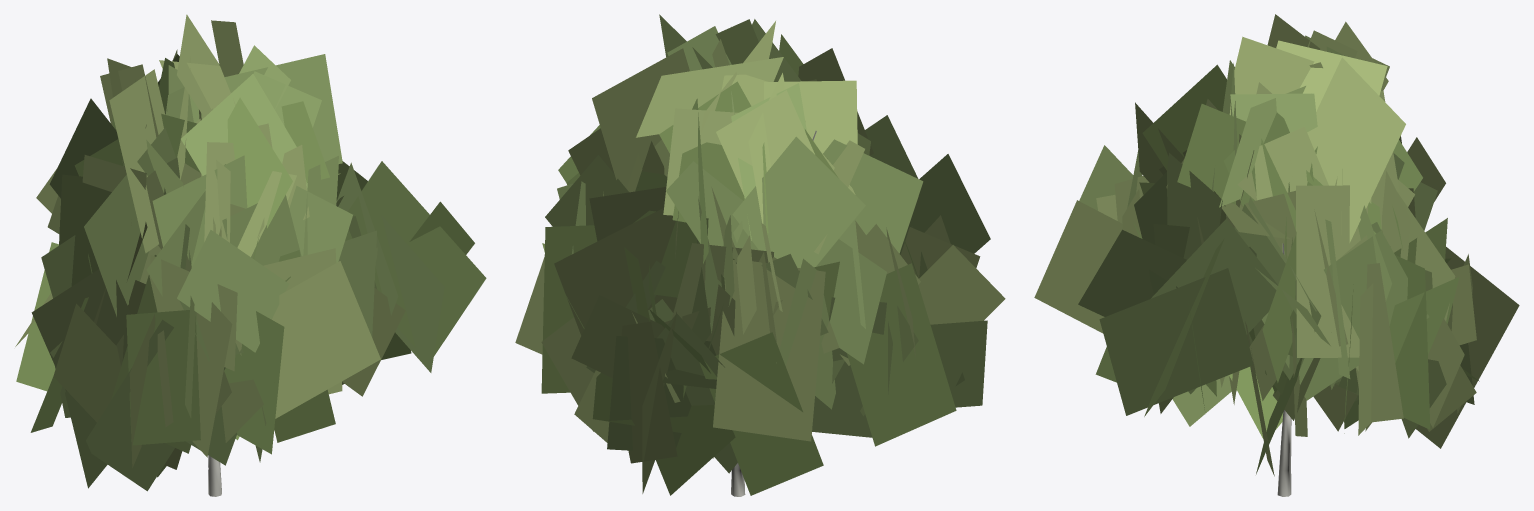
Rendered from birch_lod1.glb.
3 views of the same model, side by side, from view 1: azimuth 30°, elevation 25°; view 2: azimuth 150°, elevation 25°; view 3: azimuth 270°, elevation 25° (orthographic). The views are drawn at different scales.
Parts seen in each view (by area): view 1: birch_lod1; view 2: birch_lod1; view 3: birch_lod1.
Boxes of the visible parts, x1,y1,x2,y2 form: birch_lod1: (15,14,486,496); birch_lod1: (515,14,1005,496); birch_lod1: (1034,14,1519,496).
Bounding box in the file's own units: 1 × 1 × 0.9775.
